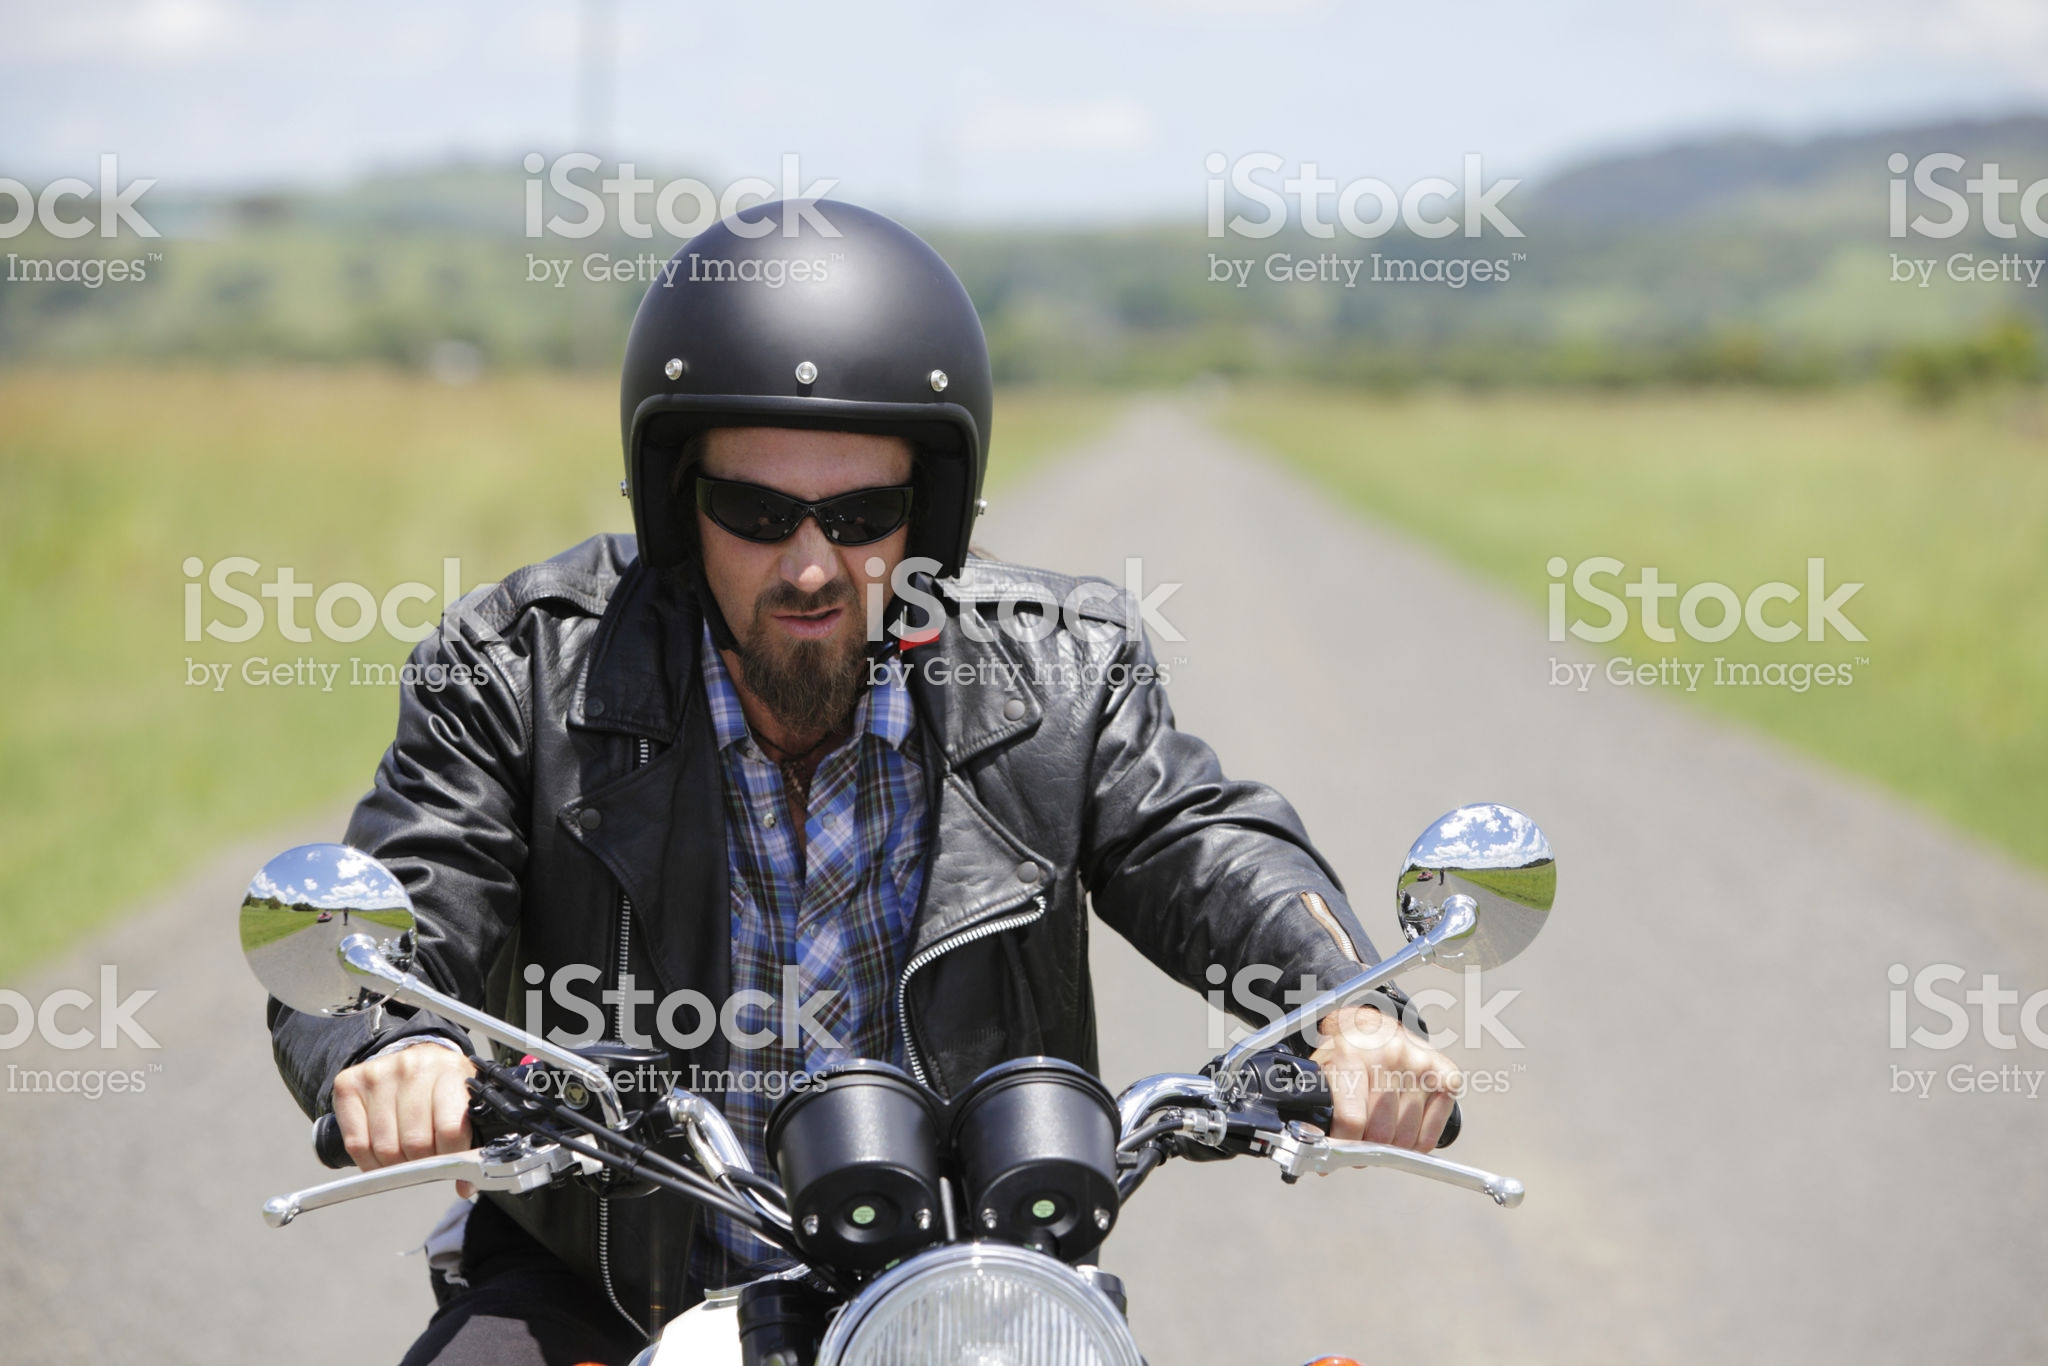helmet: (568, 186, 1000, 529)
